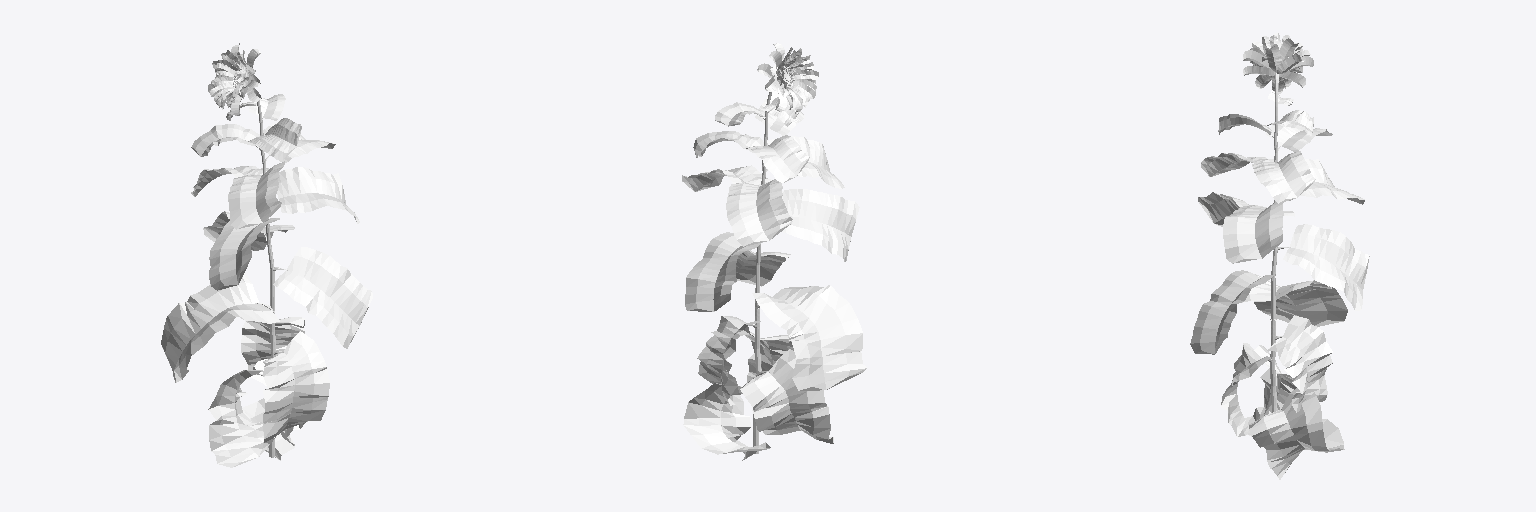
3 views of the same model, side by side, from view 1: azimuth 30°, elevation 25°; view 2: azimuth 150°, elevation 25°; view 3: azimuth 270°, elevation 25° (orthographic).
Parts seen in each view (by area): view 1: VG14_5; view 2: VG14_5; view 3: VG14_5.
Boxes of the visible parts, x1=… form: VG14_5: x1=161, y1=43, x2=372, y2=467; VG14_5: x1=682, y1=43, x2=866, y2=460; VG14_5: x1=1190, y1=32, x2=1369, y2=479.
Bounding box in the file's own units: 0.9313 × 2.1 × 0.8082.